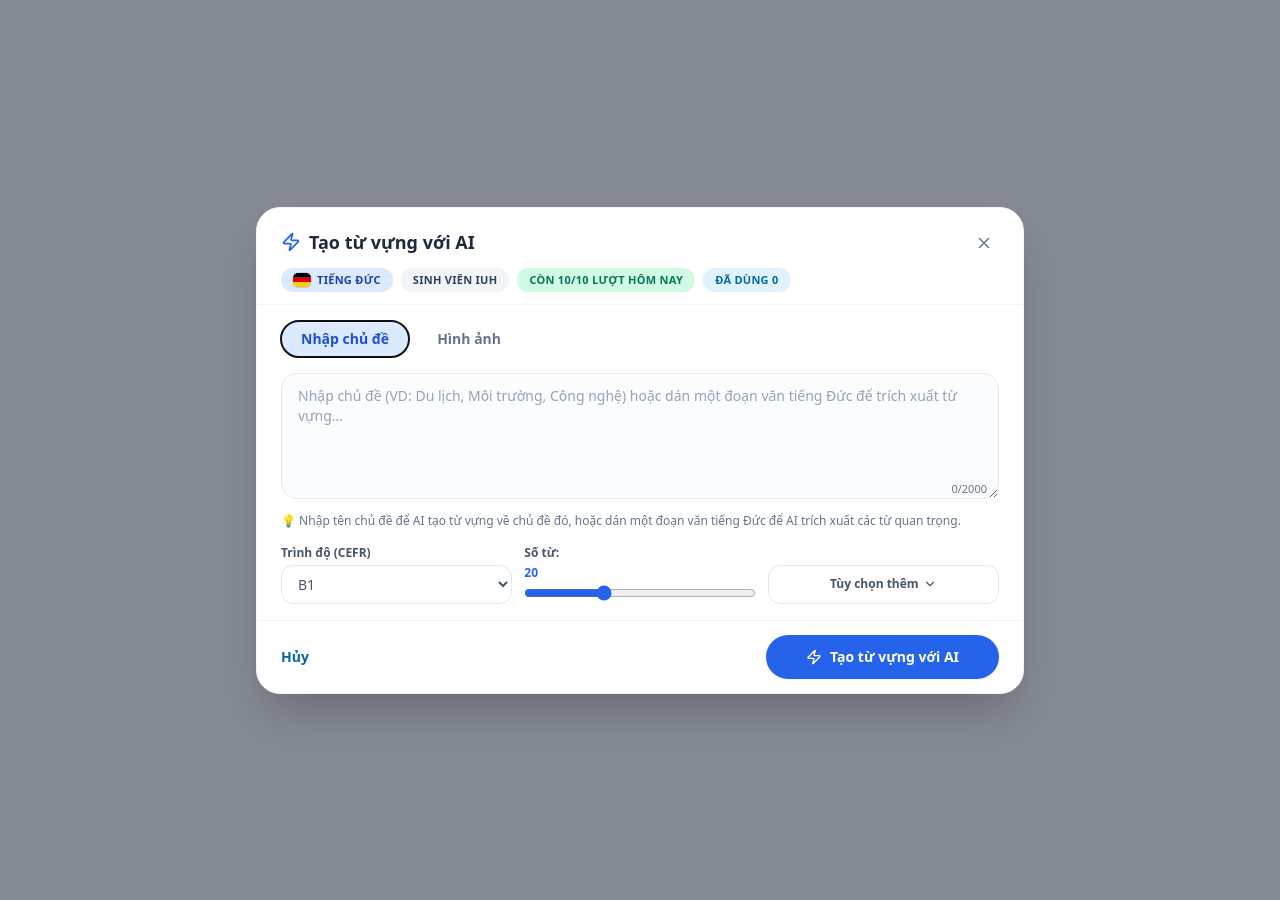
Scenario: GenerateVocabModal — nhiều ngôn ngữ › gửi ngôn ngữ lên máy chủ khi sinh theo chủ đề
Check: the text "Còn 10/10 lượt hôm nay" is shown, box [517, 268, 695, 292]
Replace the text in the text box with placeholder "Nhập chủ đề" with "Reisen". click: (640, 436)
box: [281, 372, 999, 498]
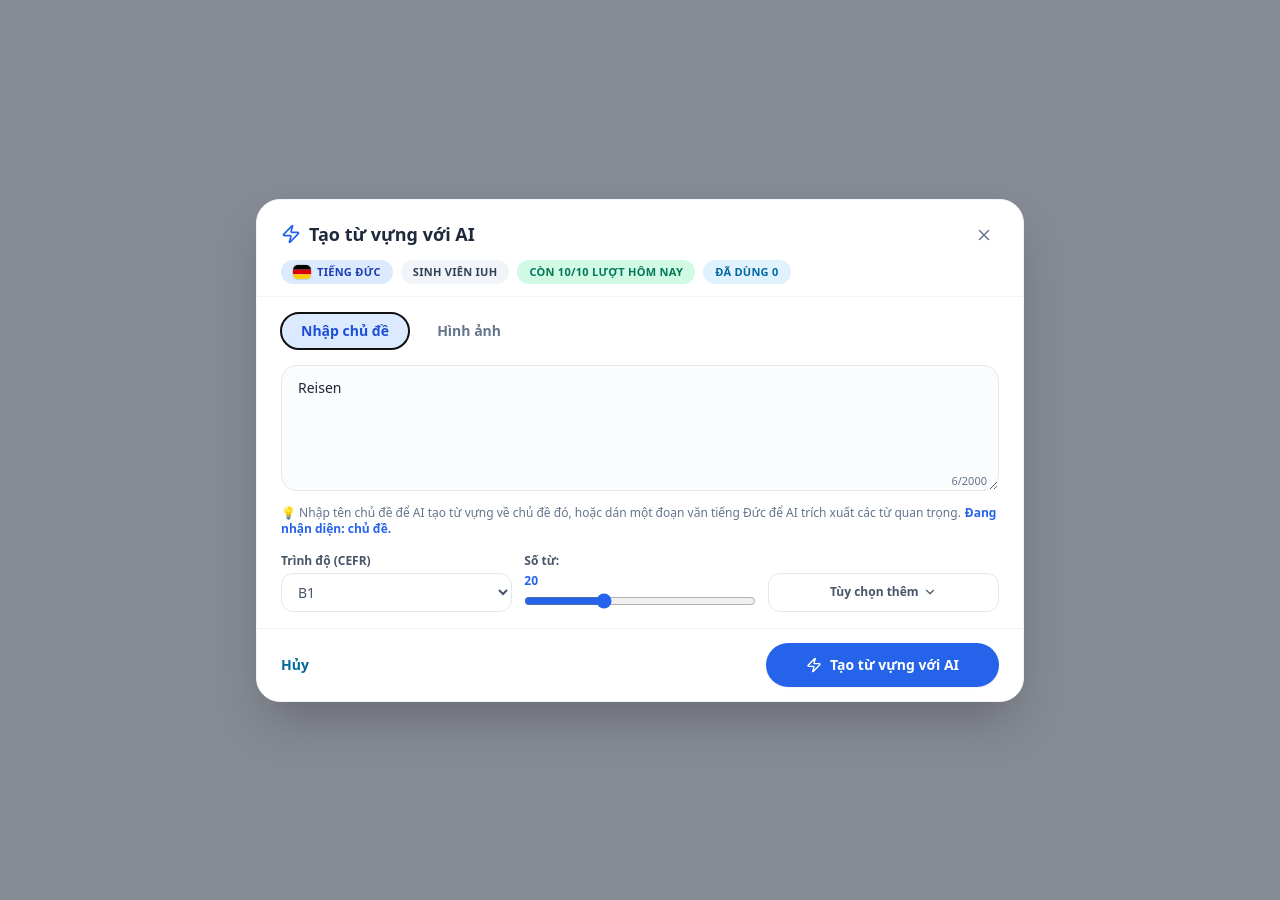
Click the button "Tạo từ vựng với AI". click: (883, 664)
box: [766, 642, 999, 686]
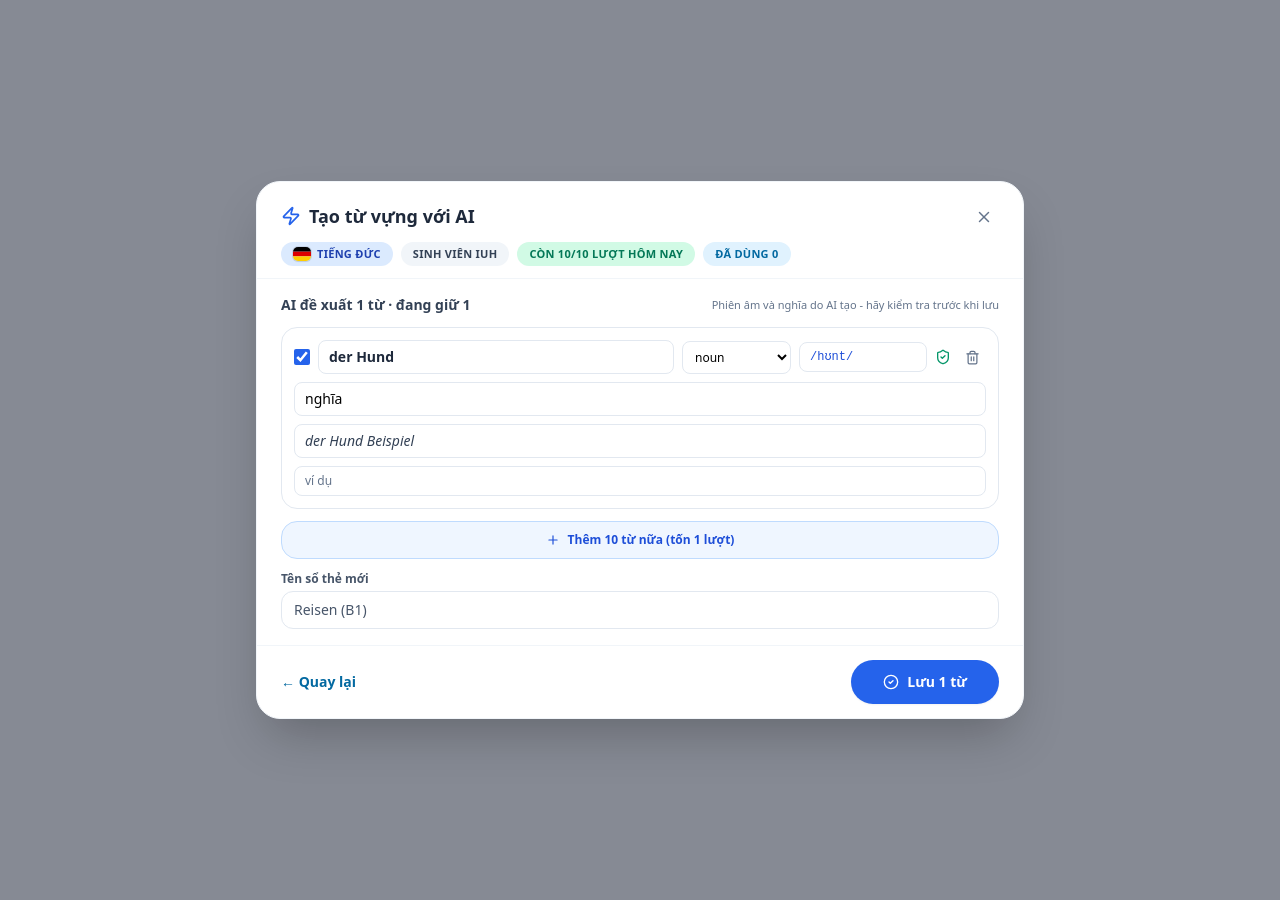
Check: the field showing "der Hund" is shown, box [318, 340, 674, 374]
